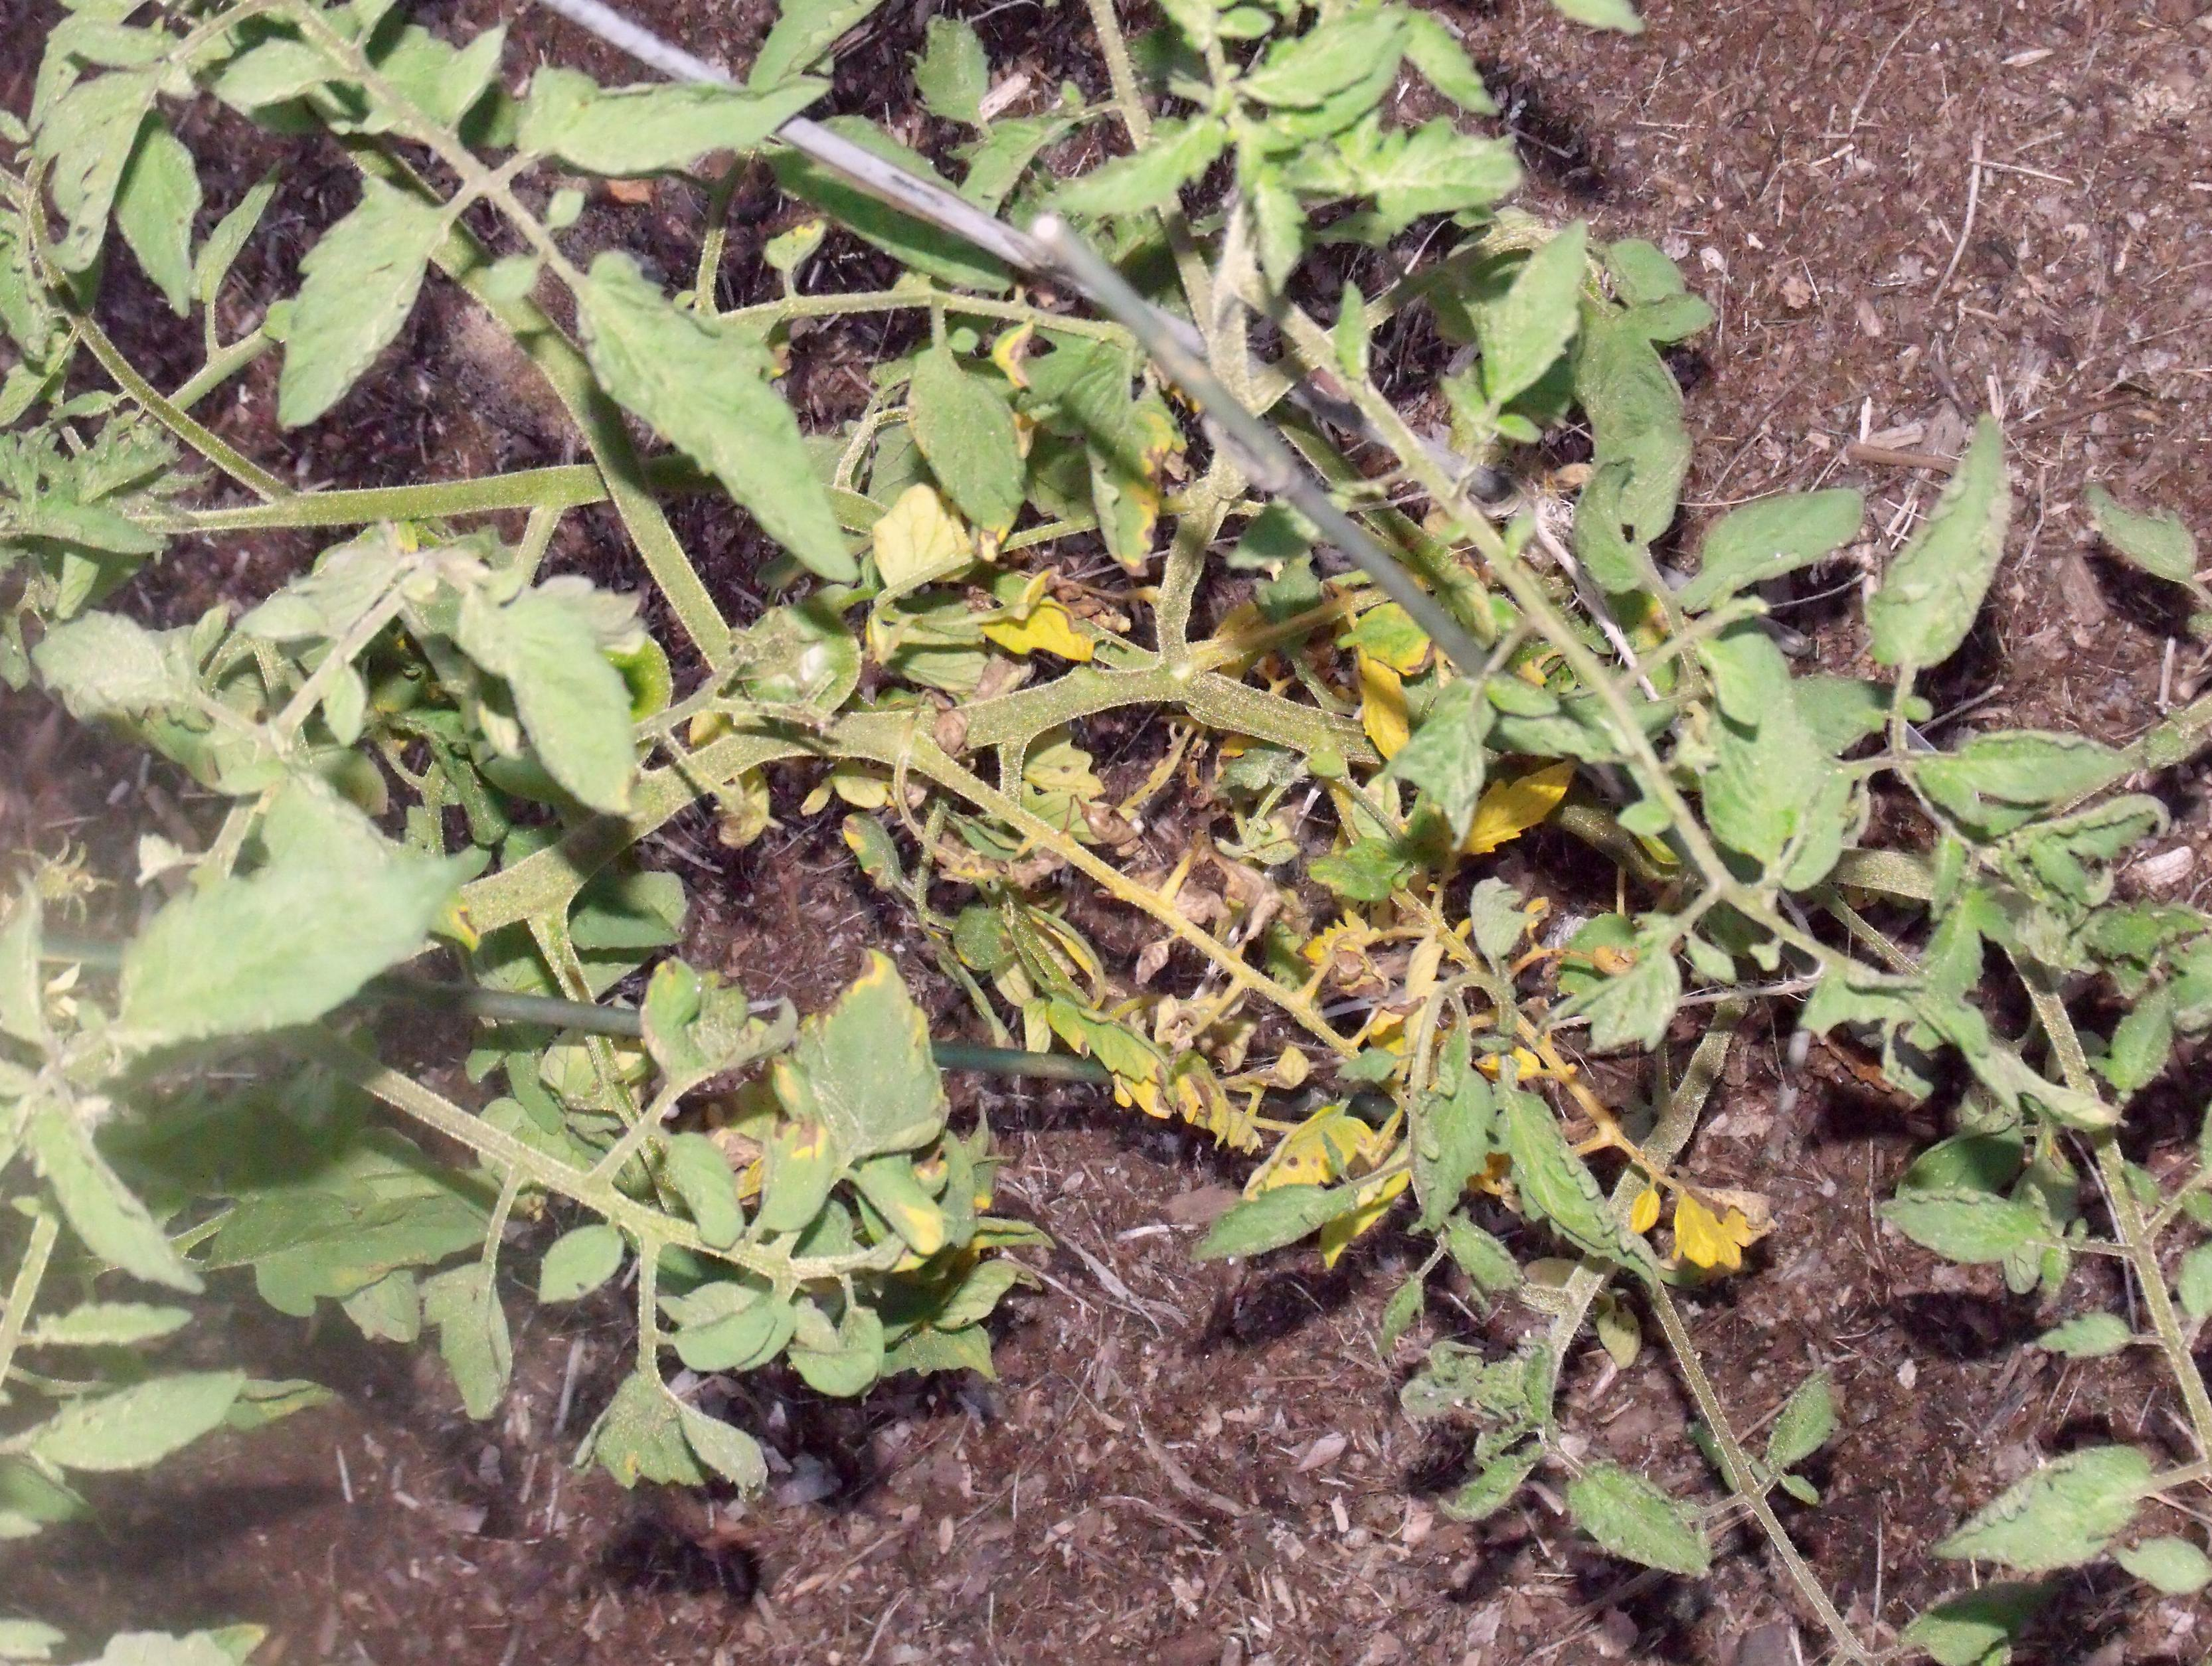Tomato leaf bacterial spot: (555, 245, 842, 586), (240, 145, 429, 443), (492, 40, 850, 196), (460, 548, 651, 830), (1027, 325, 1216, 586), (758, 954, 973, 1179), (1228, 94, 1542, 243), (1416, 226, 1629, 441), (1643, 472, 1881, 647), (1475, 1031, 1633, 1288), (898, 336, 1067, 572), (637, 912, 777, 1132)
